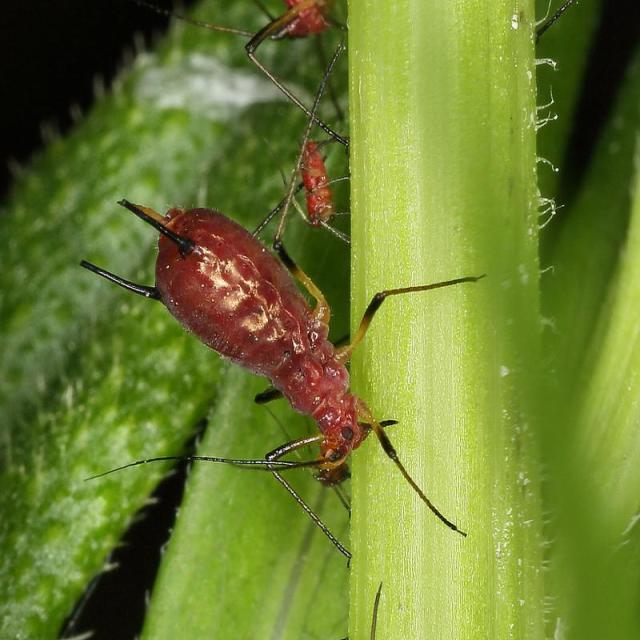Aphids: (92, 162, 488, 563)
